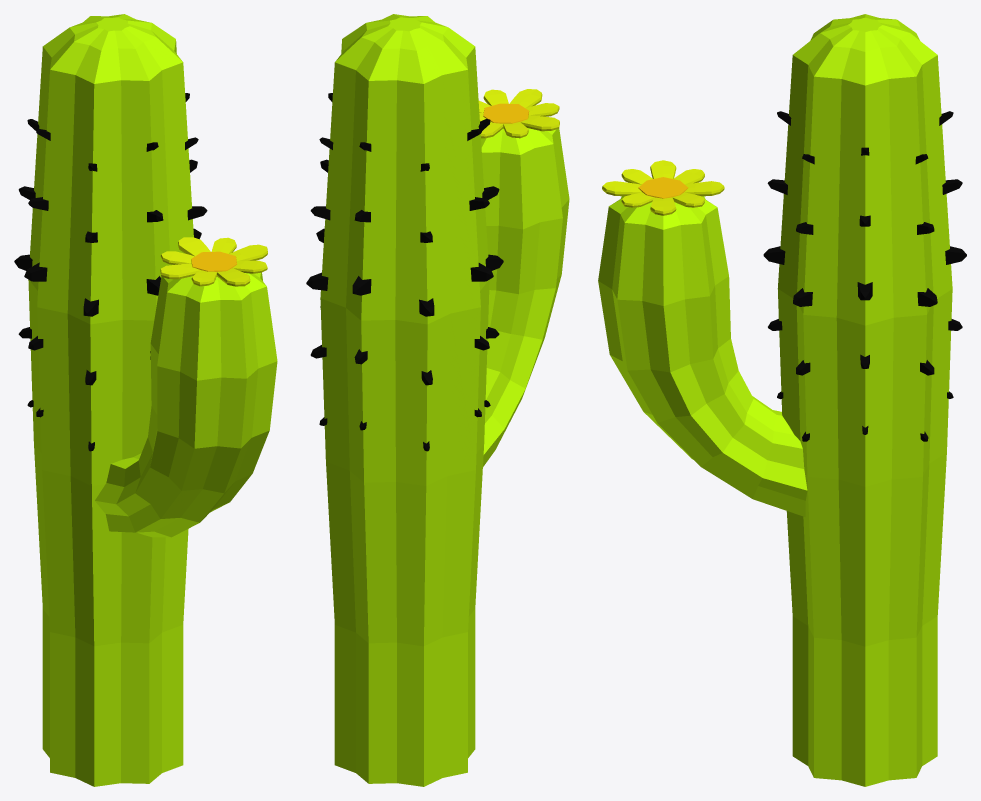
Rendered from Cardon04_01Brazos_Flor_Amarilla.fbx.
3 renders of one model, left to right at view 1: azimuth 30°, elevation 25°; view 2: azimuth 150°, elevation 25°; view 3: azimuth 270°, elevation 25°, orthographic.
Parts seen in each view (by area): view 1: Cactus, Flor_Amarilla, Espinas; view 2: Cactus, Espinas, Flor_Amarilla; view 3: Cactus, Espinas, Flor_Amarilla.
Boxes of the visible parts, x1,y1,x2,y2 form: Cactus: (28, 14, 277, 786); Flor_Amarilla: (160, 237, 267, 286); Espinas: (14, 93, 207, 451); Cactus: (320, 14, 569, 786); Espinas: (306, 93, 503, 451); Flor_Amarilla: (478, 89, 559, 138); Cactus: (598, 14, 952, 786); Espinas: (763, 111, 966, 441); Flor_Amarilla: (602, 160, 724, 215).
Size of the model in its own units: 53.18 by 211 by 96.46.
